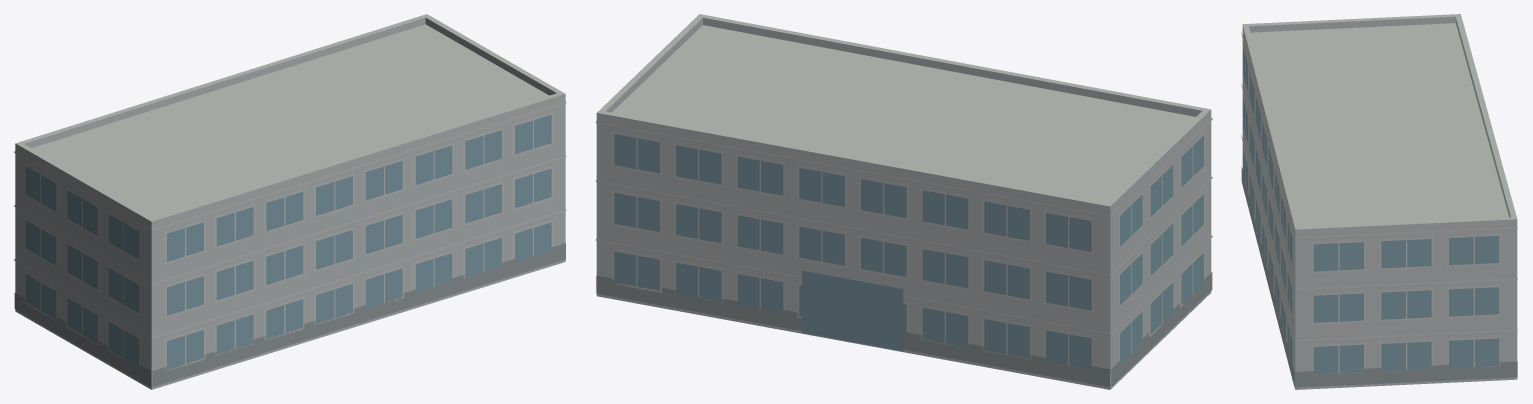
The model's file is public-ecc7a5c1-f569-4491-a60a-00652b27f7b9.glb.
3 renders of one model, left to right at view 1: azimuth 30°, elevation 25°; view 2: azimuth 150°, elevation 25°; view 3: azimuth 270°, elevation 25°, orthographic. The views are drawn at different scales.
Visible parts, largest first — view 1: public-ecc7a5c1-f569-4491-a60a-00652b27f7b9; view 2: public-ecc7a5c1-f569-4491-a60a-00652b27f7b9; view 3: public-ecc7a5c1-f569-4491-a60a-00652b27f7b9.
Part boxes in pixels (x1,y1,x2,y2): public-ecc7a5c1-f569-4491-a60a-00652b27f7b9: [14, 14, 566, 389]; public-ecc7a5c1-f569-4491-a60a-00652b27f7b9: [596, 14, 1212, 389]; public-ecc7a5c1-f569-4491-a60a-00652b27f7b9: [1241, 14, 1517, 389].
Size of the model in its own units: 26.53 by 9.15 by 14.35.
